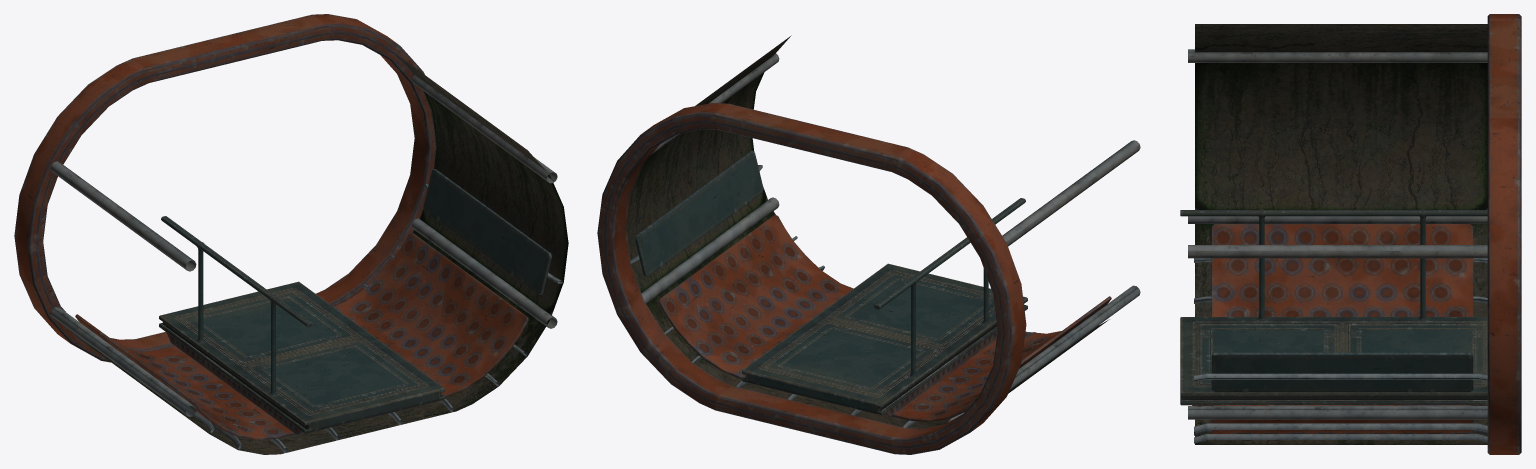
File: tunnel_observation_start.dae
3 views of the same model, side by side, from view 1: azimuth 30°, elevation 25°; view 2: azimuth 150°, elevation 25°; view 3: azimuth 270°, elevation 25° (orthographic). The views are drawn at different scales.
Visible parts, largest first — view 1: polySurface1087, polySurface1112; view 2: polySurface1087, polySurface1112; view 3: polySurface1087, polySurface1112.
Part boxes in pixels (x1,y1,x2,y2): polySurface1087: (14,14,562,453); polySurface1112: (78,55,568,454); polySurface1087: (597,53,1140,454); polySurface1112: (626,35,1109,428); polySurface1087: (1180,14,1521,454); polySurface1112: (1195,24,1487,444).
Size of the model in its own units: 6.57 by 4.49 by 4.21.
